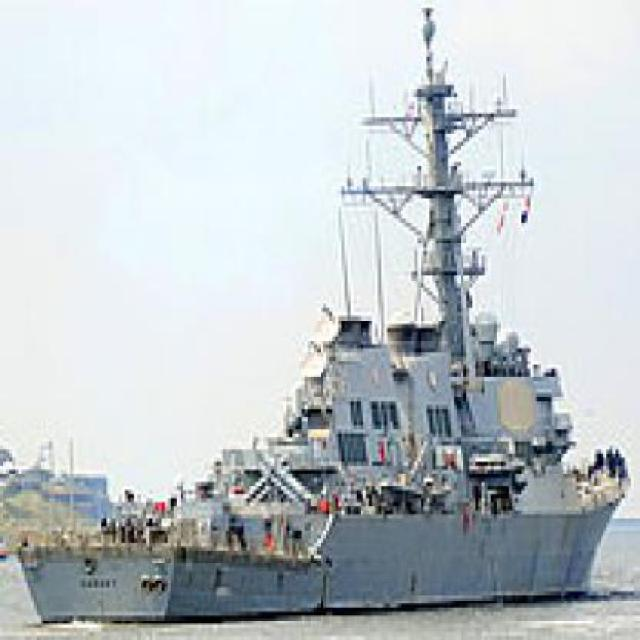warship2: (13, 1, 635, 629)
